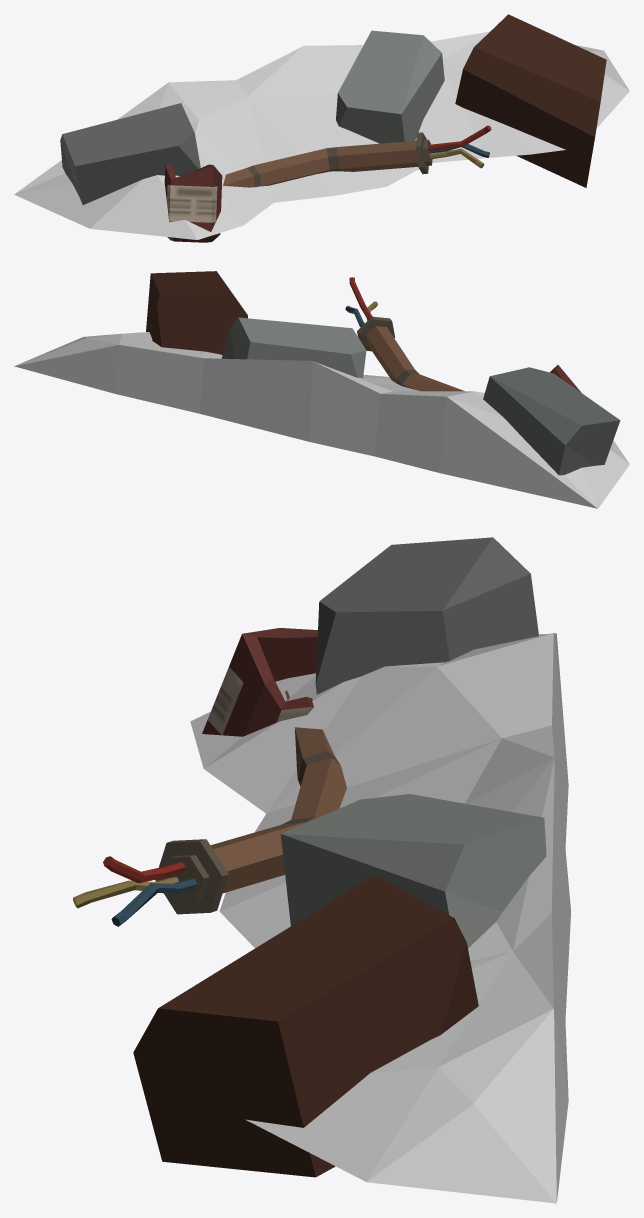
Rendered from SM_Prop_Debris_Straight_Short_02.fbx.
3 views of the same model, one above another, from view 1: azimuth 30°, elevation 25°; view 2: azimuth 150°, elevation 25°; view 3: azimuth 270°, elevation 25° (orthographic). The views are drawn at different scales.
Visible parts, largest first — view 1: SM_Prop_Debris_Straight_Short_02; view 2: SM_Prop_Debris_Straight_Short_02; view 3: SM_Prop_Debris_Straight_Short_02.
Boxes of the visible parts, box(x1,y1,x2,y2) form: SM_Prop_Debris_Straight_Short_02: box(14, 14, 629, 242); SM_Prop_Debris_Straight_Short_02: box(14, 271, 629, 508); SM_Prop_Debris_Straight_Short_02: box(73, 537, 570, 1203).
Size of the model in its own units: 139 by 27.23 by 51.34.
